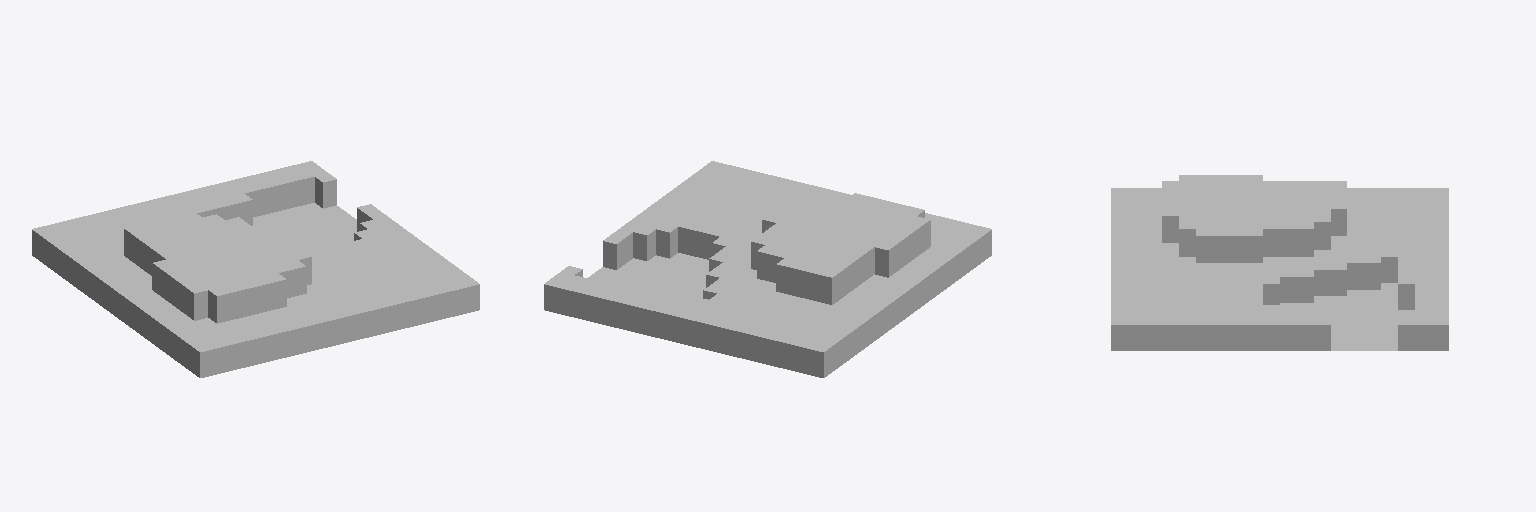
File: ground-old.obj
3 views of the same model, side by side, from view 1: azimuth 30°, elevation 25°; view 2: azimuth 150°, elevation 25°; view 3: azimuth 270°, elevation 25° (orthographic).
Visible parts, largest first — view 1: Plane; view 2: Plane; view 3: Plane.
Boxes of the visible parts, x1,y1,x2,y2 form: Plane: [32, 161, 479, 377]; Plane: [544, 161, 991, 377]; Plane: [1111, 175, 1448, 350].
Bounding box in the file's own units: 19951 × 3630 × 20789.